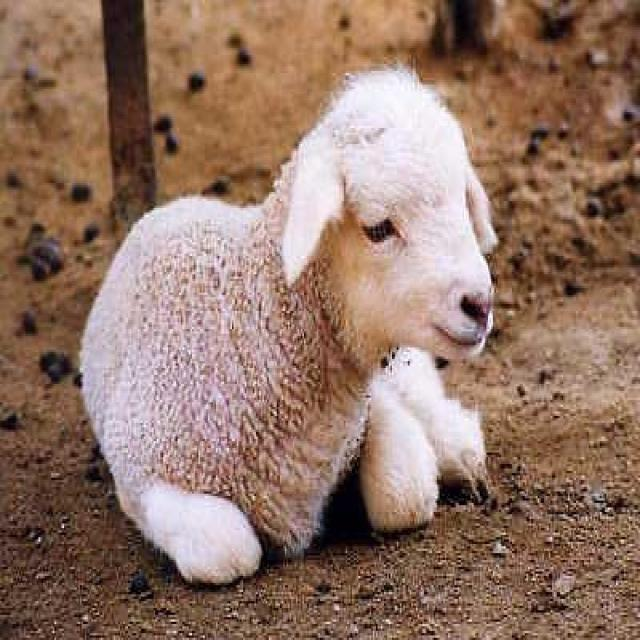sheep: (72, 64, 499, 587)
